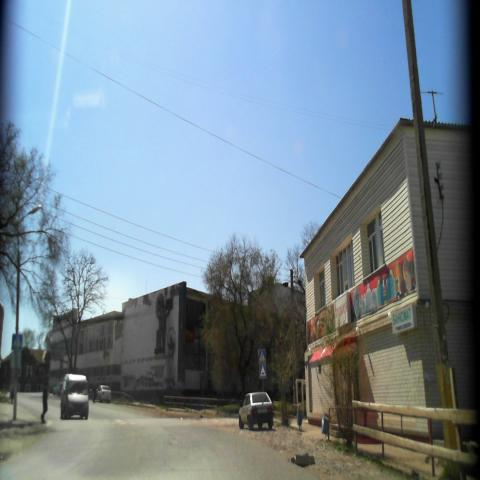5_20: (258, 365, 266, 383)
